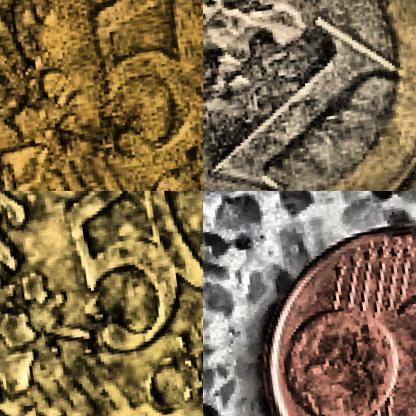coin: (0, 191, 202, 415), (203, 0, 415, 190), (0, 0, 202, 190), (245, 200, 415, 415)
